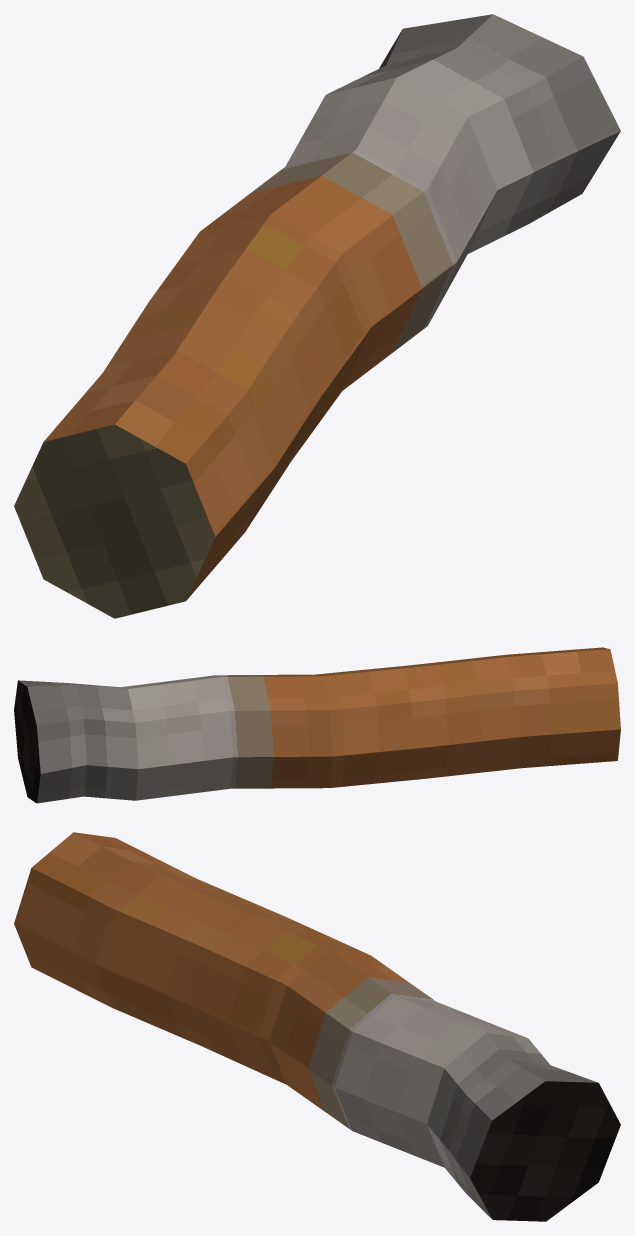
The picture shows the model from 3 angles, top to bottom: view 1: azimuth 30°, elevation 25°; view 2: azimuth 150°, elevation 25°; view 3: azimuth 270°, elevation 25°; orthographic projection. The views are drawn at different scales.
Visible parts, largest first — view 1: cig_3; view 2: cig_3; view 3: cig_3.
Boxes of the visible parts, box(x1,y1,x2,y2) form: cig_3: box(14, 14, 620, 618); cig_3: box(14, 647, 620, 803); cig_3: box(14, 832, 620, 1221).
Bounding box in the file's own units: 0.0678 × 0.015 × 0.0586.
1 material, 1 textured.
